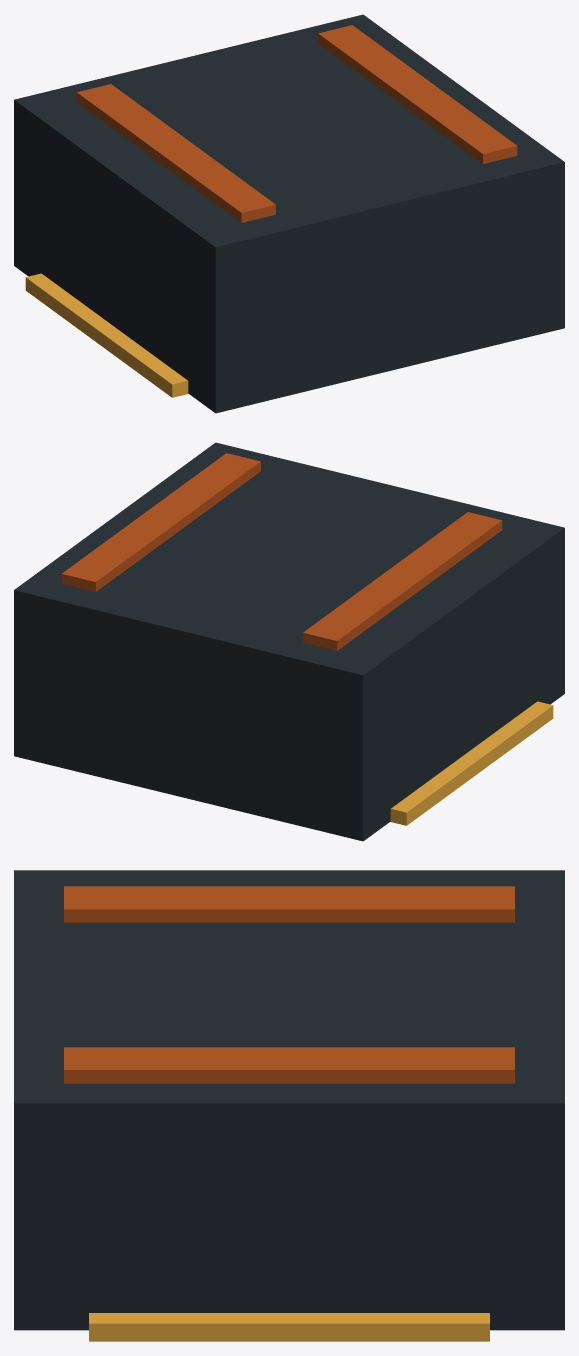
The model's file is 081_L107_INDUCTOR5.fbx.
3 renders of one model, top to bottom at view 1: azimuth 30°, elevation 25°; view 2: azimuth 150°, elevation 25°; view 3: azimuth 270°, elevation 25°, orthographic. The views are drawn at different scales.
Visible parts, largest first — view 1: 081_L106_INDUCTOR5_000, 081_L106_INDUCTOR5_001, 081_L106_INDUCTOR5_002, 081_L106_INDUCTOR5_011, 081_L106_INDUCTOR5_009, 081_L106_INDUCTOR5_003, 081_L106_INDUCTOR5_006, 081_L106_INDUCTOR5_004, 081_L106_INDUCTOR5_010, 081_L106_INDUCTOR5_008, 081_L106_INDUCTOR5_007; view 2: 081_L106_INDUCTOR5_000, 081_L106_INDUCTOR5_001, 081_L106_INDUCTOR5_002, 081_L106_INDUCTOR5_011, 081_L106_INDUCTOR5_009, 081_L106_INDUCTOR5_004, 081_L106_INDUCTOR5_003, 081_L106_INDUCTOR5_010, 081_L106_INDUCTOR5_006, 081_L106_INDUCTOR5_008, 081_L106_INDUCTOR5_007; view 3: 081_L106_INDUCTOR5_000, 081_L106_INDUCTOR5_012, 081_L106_INDUCTOR5_010, 081_L106_INDUCTOR5_009, 081_L106_INDUCTOR5_005, 081_L106_INDUCTOR5_004, 081_L106_INDUCTOR5_002, 081_L106_INDUCTOR5_001, 081_L106_INDUCTOR5_003, 081_L106_INDUCTOR5_008, 081_L106_INDUCTOR5_007.
Part boxes in pixels (left/top/right/bottom): 081_L106_INDUCTOR5_000: left=14, top=14, right=564, bottom=413; 081_L106_INDUCTOR5_001: left=76, top=87, right=260, bottom=222; 081_L106_INDUCTOR5_002: left=318, top=29, right=501, bottom=163; 081_L106_INDUCTOR5_011: left=25, top=273, right=188, bottom=397; 081_L106_INDUCTOR5_009: left=99, top=84, right=275, bottom=218; 081_L106_INDUCTOR5_003: left=113, top=97, right=264, bottom=221; 081_L106_INDUCTOR5_006: left=327, top=27, right=507, bottom=156; 081_L106_INDUCTOR5_004: left=334, top=28, right=505, bottom=162; 081_L106_INDUCTOR5_010: left=346, top=25, right=517, bottom=156; 081_L106_INDUCTOR5_008: left=338, top=26, right=513, bottom=160; 081_L106_INDUCTOR5_007: left=148, top=117, right=272, bottom=216; 081_L106_INDUCTOR5_000: left=14, top=442, right=564, bottom=841; 081_L106_INDUCTOR5_001: left=318, top=515, right=502, bottom=650; 081_L106_INDUCTOR5_002: left=77, top=457, right=260, bottom=591; 081_L106_INDUCTOR5_011: left=390, top=701, right=553, bottom=825; 081_L106_INDUCTOR5_009: left=303, top=512, right=481, bottom=647; 081_L106_INDUCTOR5_004: left=73, top=456, right=242, bottom=590; 081_L106_INDUCTOR5_003: left=314, top=525, right=464, bottom=649; 081_L106_INDUCTOR5_010: left=61, top=453, right=231, bottom=585; 081_L106_INDUCTOR5_006: left=69, top=455, right=249, bottom=588; 081_L106_INDUCTOR5_008: left=65, top=454, right=238, bottom=587; 081_L106_INDUCTOR5_007: left=306, top=549, right=424, bottom=645; 081_L106_INDUCTOR5_000: left=14, top=870, right=564, bottom=1330; 081_L106_INDUCTOR5_012: left=89, top=1313, right=489, bottom=1341; 081_L106_INDUCTOR5_010: left=64, top=1057, right=514, bottom=1083; 081_L106_INDUCTOR5_009: left=64, top=897, right=514, bottom=922; 081_L106_INDUCTOR5_005: left=64, top=891, right=514, bottom=903; 081_L106_INDUCTOR5_004: left=64, top=1049, right=514, bottom=1062; 081_L106_INDUCTOR5_002: left=64, top=1047, right=514, bottom=1059; 081_L106_INDUCTOR5_001: left=64, top=886, right=514, bottom=898; 081_L106_INDUCTOR5_003: left=64, top=889, right=514, bottom=901; 081_L106_INDUCTOR5_008: left=64, top=1055, right=514, bottom=1067; 081_L106_INDUCTOR5_007: left=64, top=894, right=514, bottom=906.
Bounding box in the file's own units: 0.012 × 0.011 × 0.00532.
